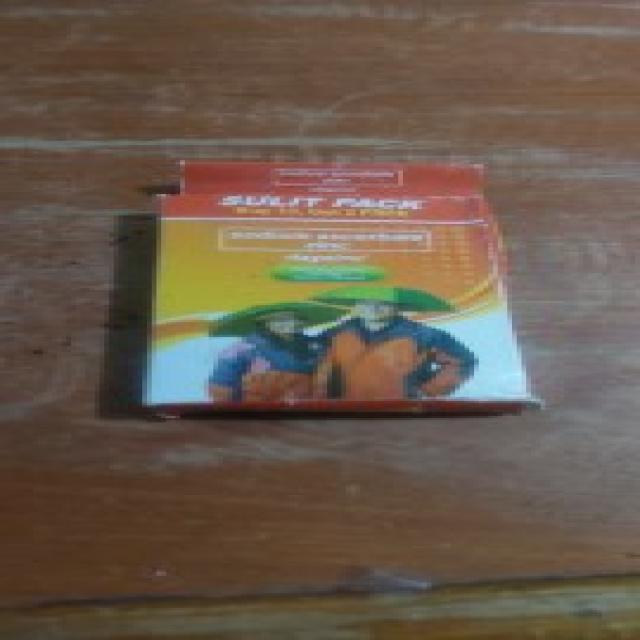Cacat: (159, 164, 498, 413)
